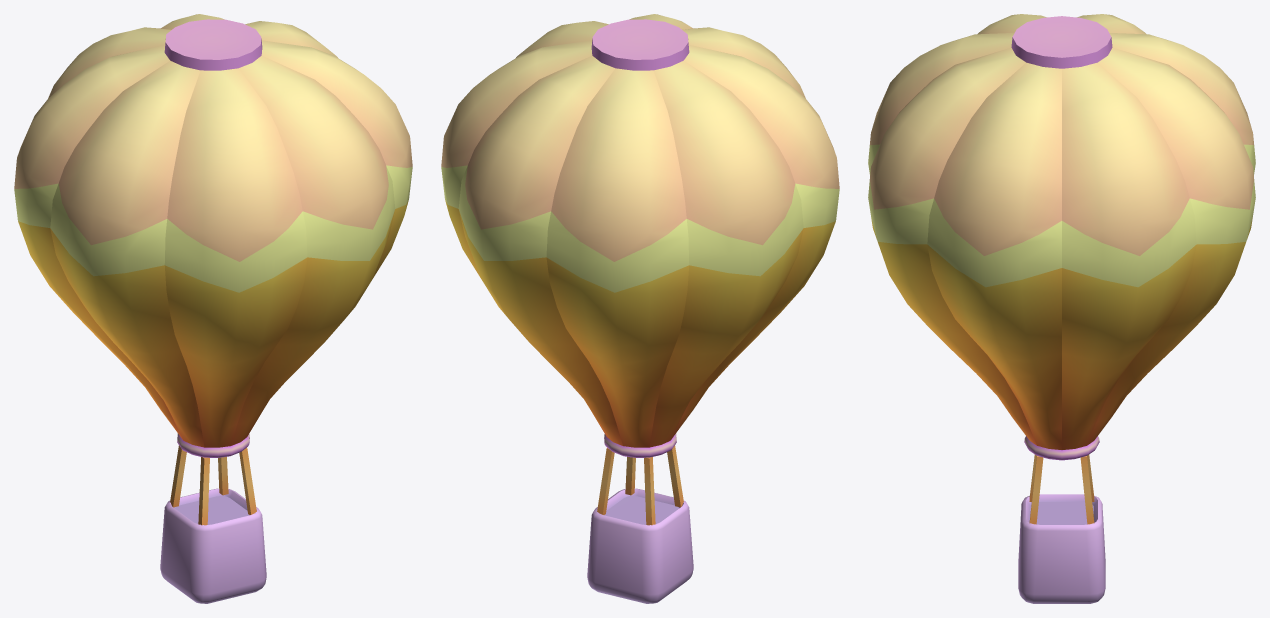
The model's file is Balloons-3.fbx.
The picture shows the model from 3 angles, left to right: view 1: azimuth 30°, elevation 25°; view 2: azimuth 150°, elevation 25°; view 3: azimuth 270°, elevation 25°; orthographic projection.
Visible parts, largest first — view 1: Ballons-3; view 2: Ballons-3; view 3: Ballons-3.
Part boxes in pixels (x1,y1,x2,y2): Ballons-3: (14,14,412,603); Ballons-3: (441,14,839,603); Ballons-3: (868,14,1255,603).
Size of the model in its own units: 1032 by 1623 by 1030.
